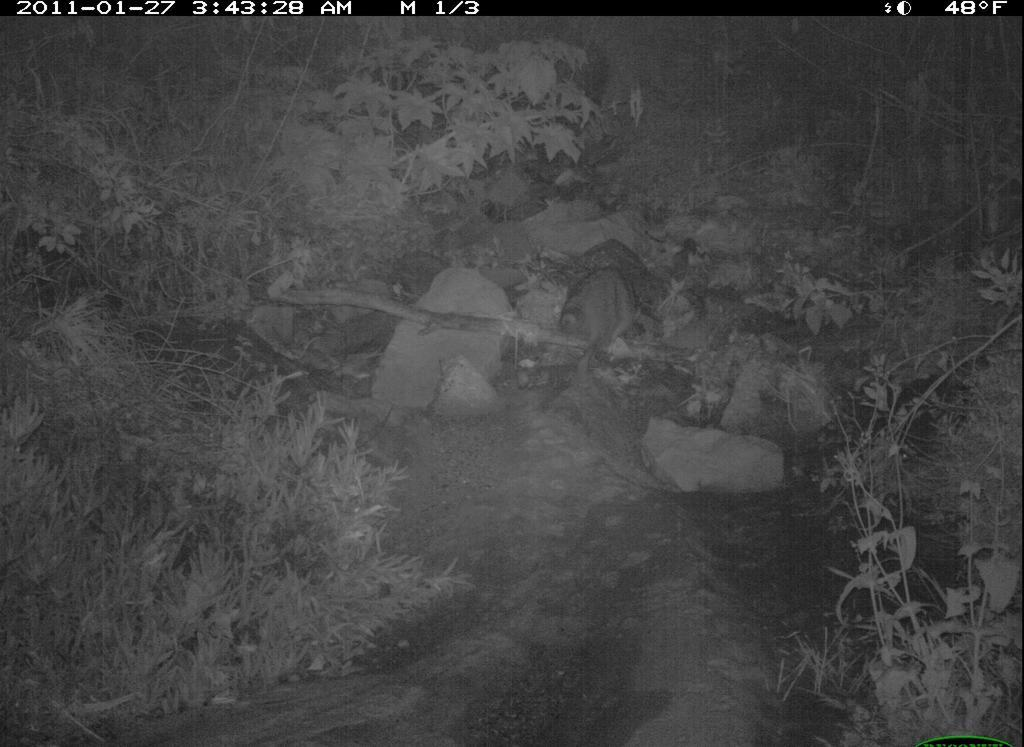raccoon: (562, 249, 647, 365)
